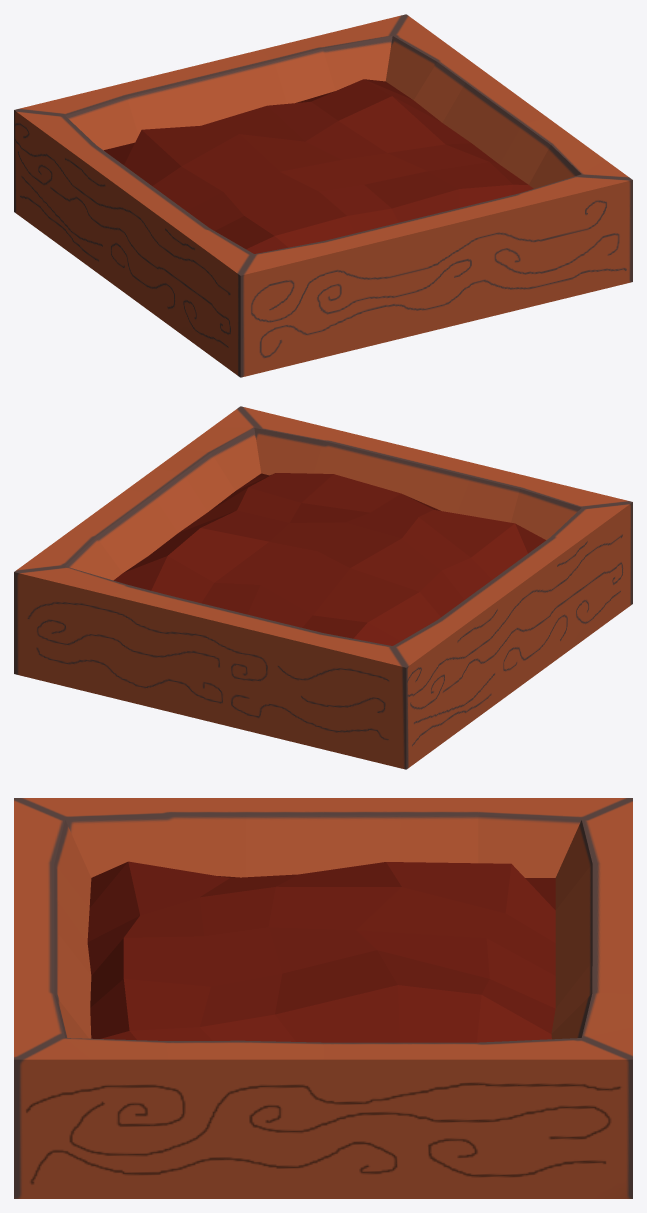
Rendered from Pot.fbx.
The picture shows the model from 3 angles, top to bottom: view 1: azimuth 30°, elevation 25°; view 2: azimuth 150°, elevation 25°; view 3: azimuth 270°, elevation 25°; orthographic projection. The views are drawn at different scales.
Visible parts, largest first — view 1: CaixaPlantio; view 2: CaixaPlantio; view 3: CaixaPlantio.
Part boxes in pixels (box(x1,y1,x2,y2)): CaixaPlantio: box(14, 14, 632, 377); CaixaPlantio: box(14, 406, 632, 769); CaixaPlantio: box(14, 798, 632, 1198).
Size of the model in its own units: 200 by 52.4 by 200.
